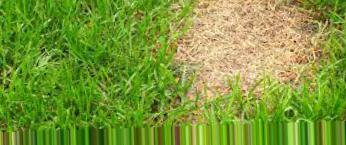patch: (193, 8, 292, 105)
